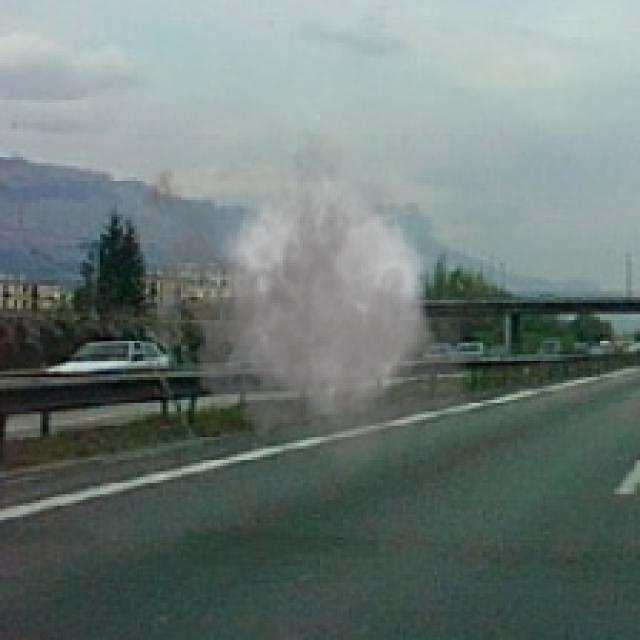Smoke: (128, 106, 483, 488)
